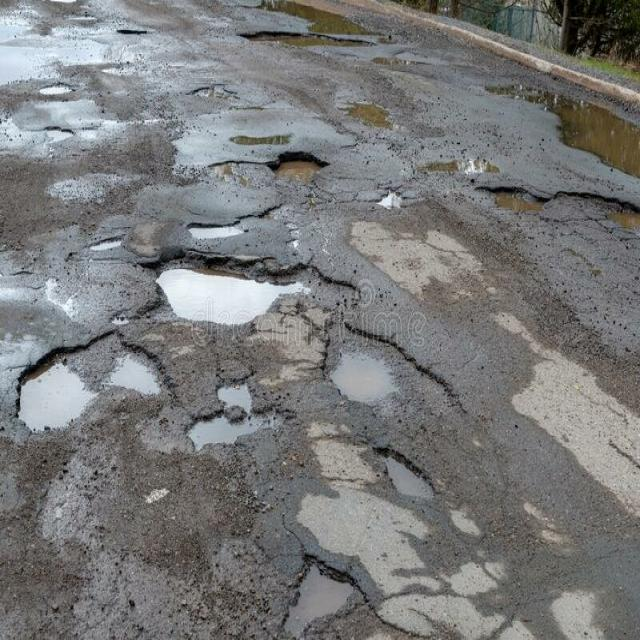Pothole: (87, 58, 640, 616), (7, 336, 99, 474)
